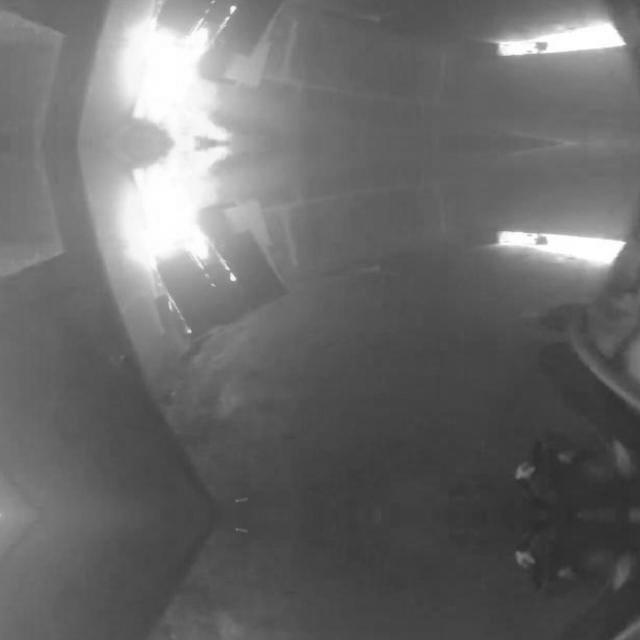smoke: (132, 18, 227, 143), (132, 144, 227, 269)
